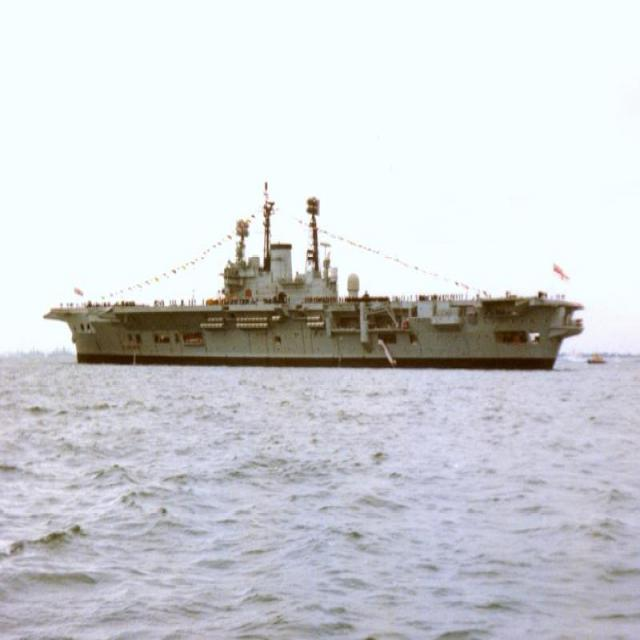Portanaves: (38, 175, 590, 369)
